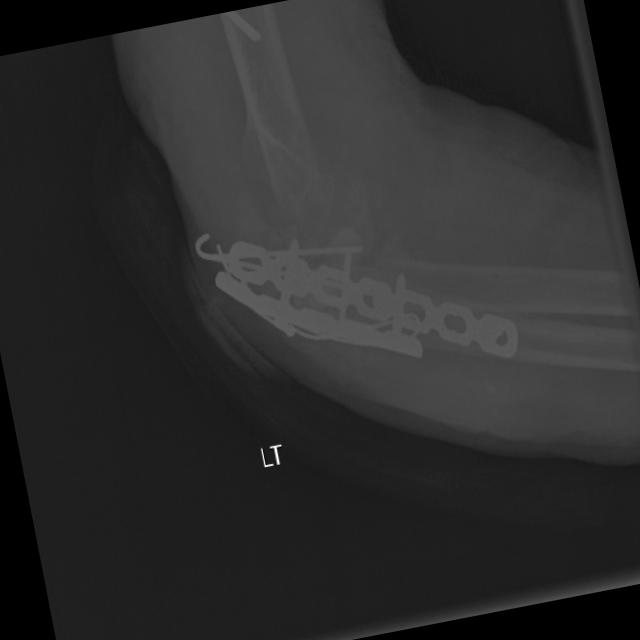elbow positive: (254, 165, 413, 363)
